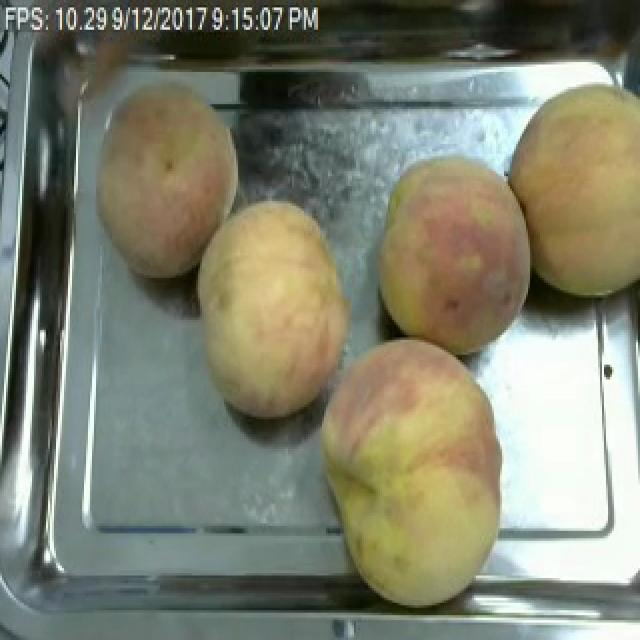Fruit: (300, 325, 520, 618), (186, 196, 364, 429), (366, 146, 542, 365), (84, 74, 250, 288), (498, 70, 640, 310)
